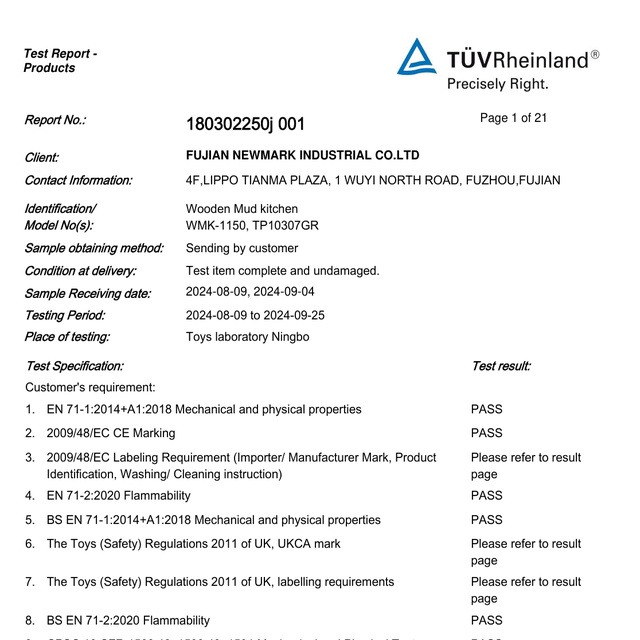tuv_rheinland: (393, 36, 603, 78)
